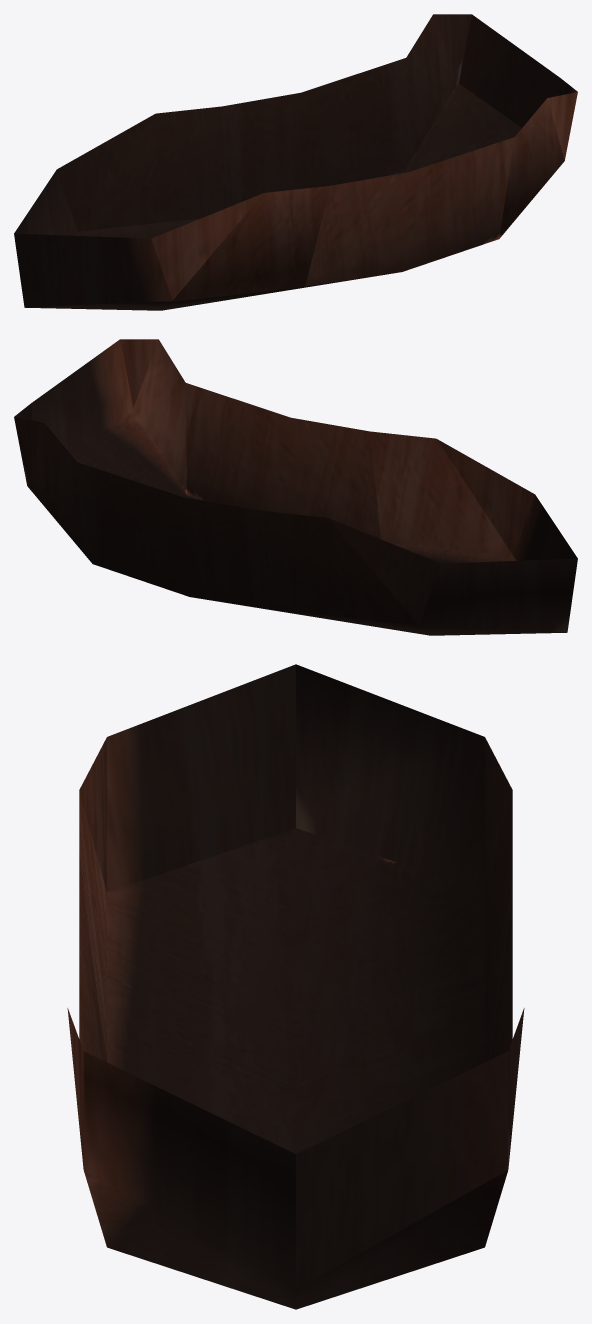
File: SM_Armature.fbx
3 renders of one model, top to bottom at view 1: azimuth 30°, elevation 25°; view 2: azimuth 150°, elevation 25°; view 3: azimuth 270°, elevation 25°, orthographic. The views are drawn at different scales.
Visible parts, largest first — view 1: Core; view 2: Core; view 3: Core.
Boxes of the visible parts, x1,y1,x2,y2 form: Core: (14,14,577,310); Core: (14,339,577,635); Core: (67,664,524,1309).
Size of the model in its own units: 2275 by 823 by 727.
